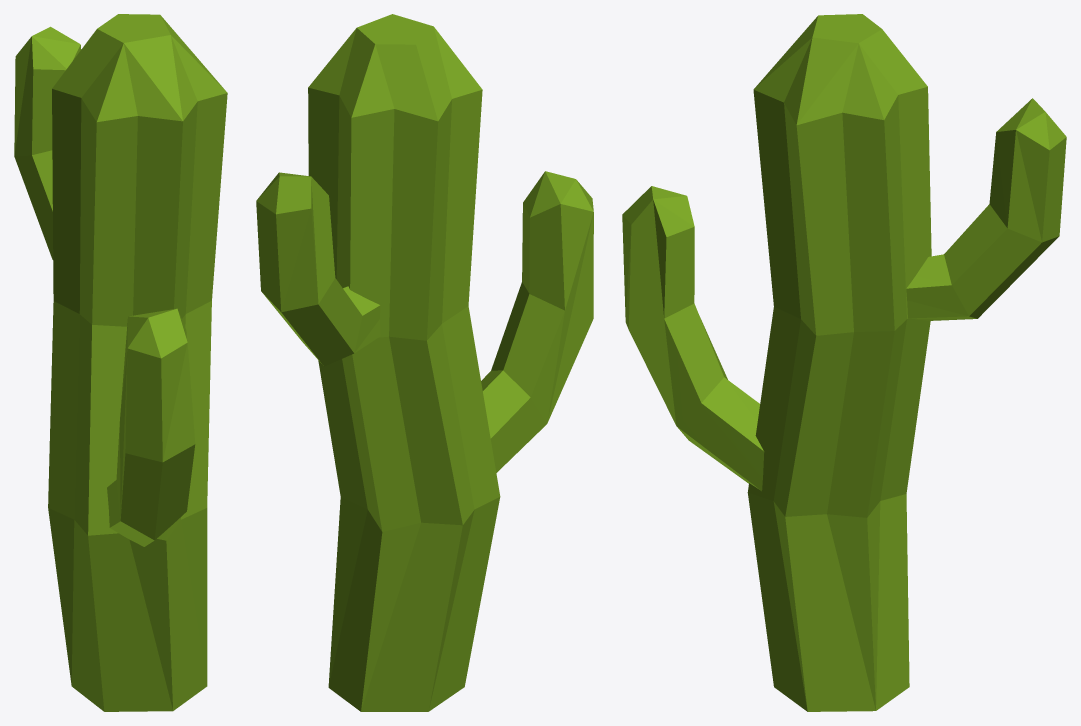
File: CactiB.fbx
The picture shows the model from 3 angles, left to right: view 1: azimuth 30°, elevation 25°; view 2: azimuth 150°, elevation 25°; view 3: azimuth 270°, elevation 25°; orthographic projection.
Visible parts, largest first — view 1: cacti2; view 2: cacti2; view 3: cacti2.
Part boxes in pixels (left/top/right/bottom): cacti2: left=14, top=14, right=227, bottom=711; cacti2: left=256, top=14, right=593, bottom=711; cacti2: left=622, top=14, right=1066, bottom=711.
Size of the model in its own units: 44.78 by 164 by 100.
